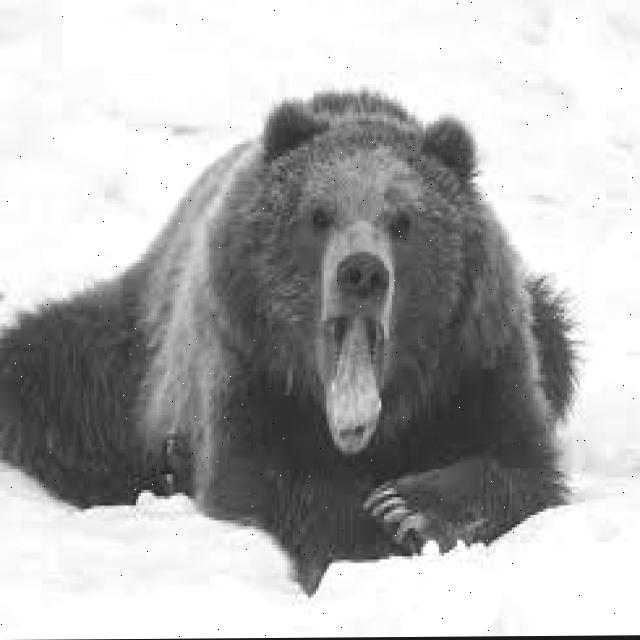Bear: (54, 99, 545, 549)
